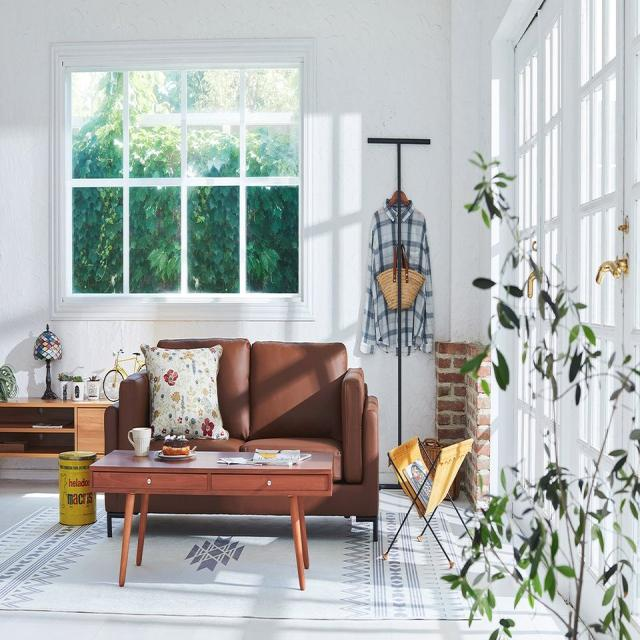vintage desk: (88, 448, 333, 592)
vintage sofa: (101, 334, 380, 542)
